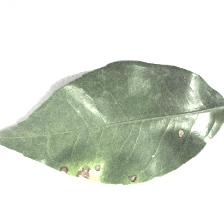canker: (34, 125, 197, 181)
